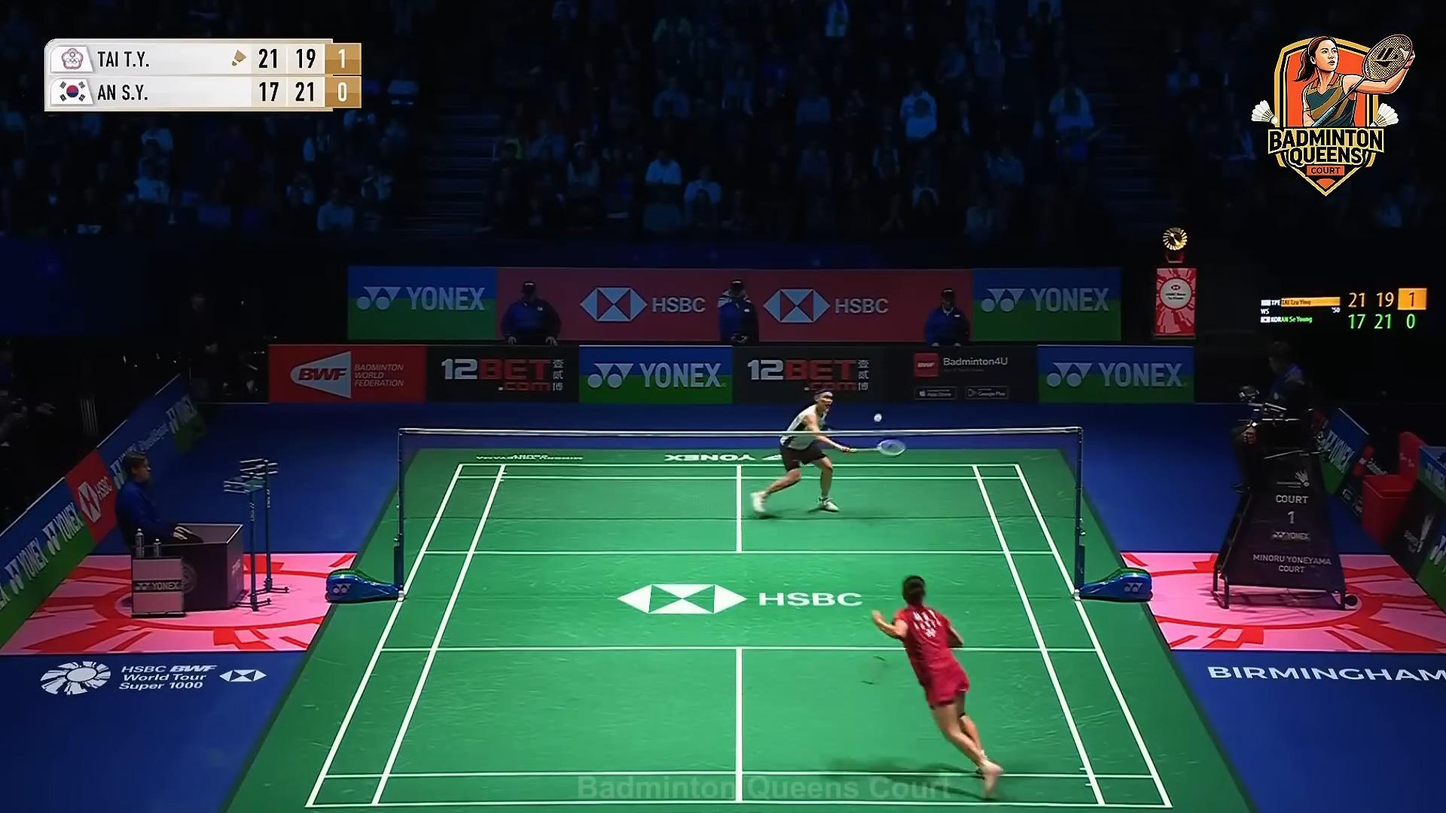player: (872, 575, 1005, 801), (753, 387, 856, 517)
